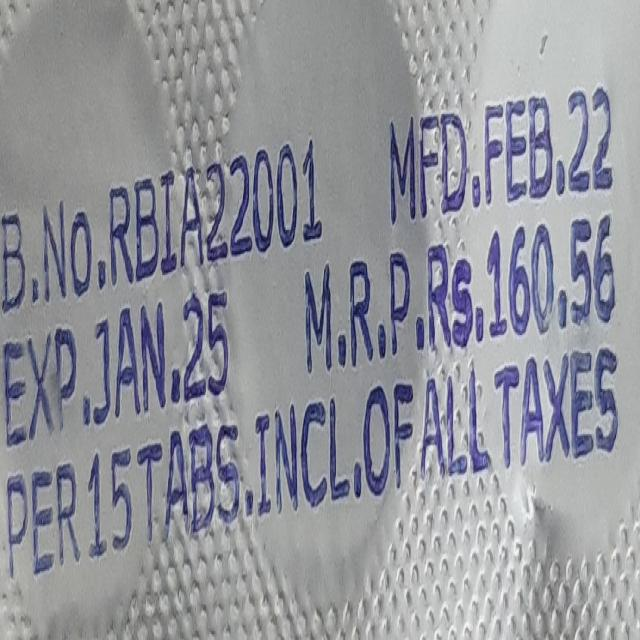sentence: (0, 195, 619, 446), (0, 341, 620, 576), (0, 89, 611, 312)
